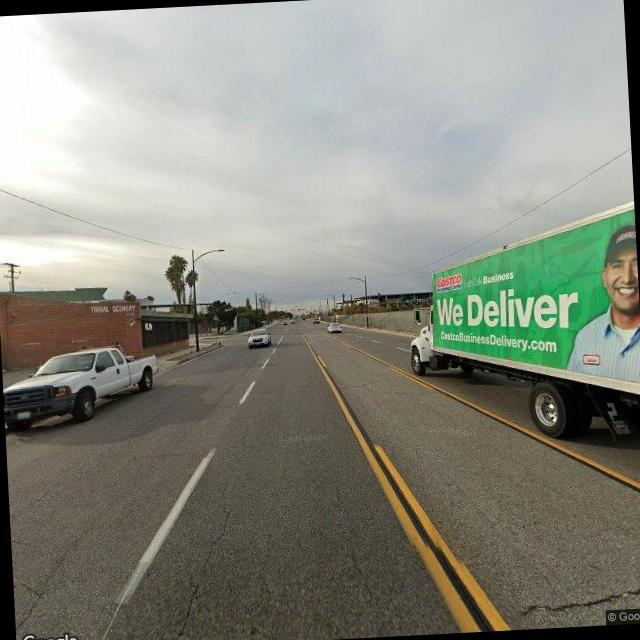crack: (159, 510, 229, 640), (514, 574, 640, 616), (312, 372, 458, 399)
